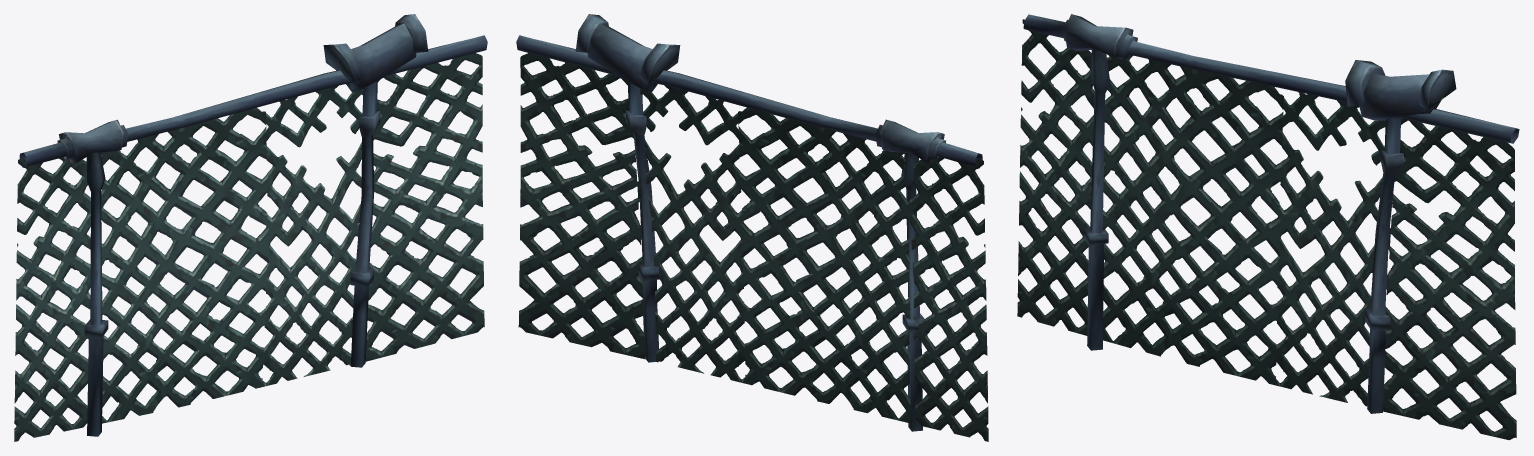
Rendered from mesh_Pt_sewb_props_16.FBX.
3 renders of one model, left to right at view 1: azimuth 30°, elevation 25°; view 2: azimuth 150°, elevation 25°; view 3: azimuth 330°, elevation 25°, orthographic. The views are drawn at different scales.
Visible parts, largest first — view 1: polySurface262; view 2: polySurface262; view 3: polySurface262.
Boxes of the visible parts, x1,y1,x2,y2 form: polySurface262: (14, 14, 487, 441); polySurface262: (516, 14, 988, 441); polySurface262: (1017, 14, 1519, 439).
Size of the model in its own units: 0.1364 by 0.0938 by 0.0156.
